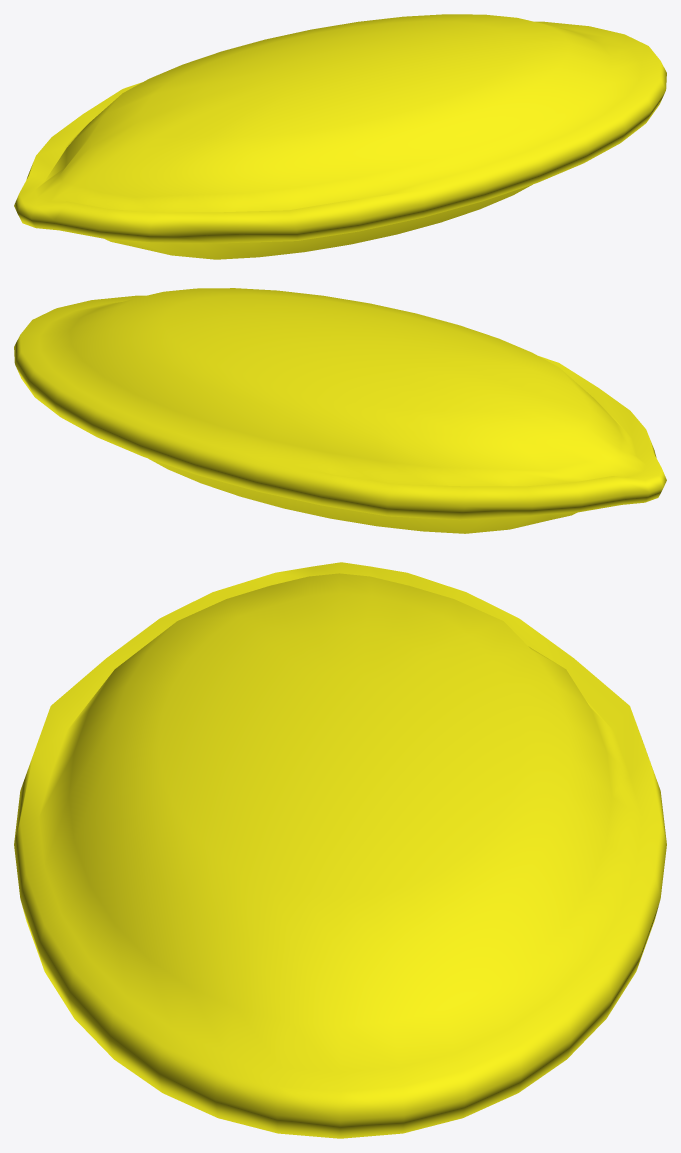
The model's file is 小黃瓜種子.FBX.
3 views of the same model, one above another, from view 1: azimuth 30°, elevation 25°; view 2: azimuth 150°, elevation 25°; view 3: azimuth 270°, elevation 25° (orthographic). The views are drawn at different scales.
Parts seen in each view (by area): view 1: Sphere001; view 2: Sphere001; view 3: Sphere001.
Boxes of the visible parts, x1,y1,x2,y2 form: Sphere001: [14, 14, 666, 259]; Sphere001: [14, 288, 666, 533]; Sphere001: [14, 562, 666, 1138].
Size of the model in its own units: 27.4 by 5.7 by 13.92.
